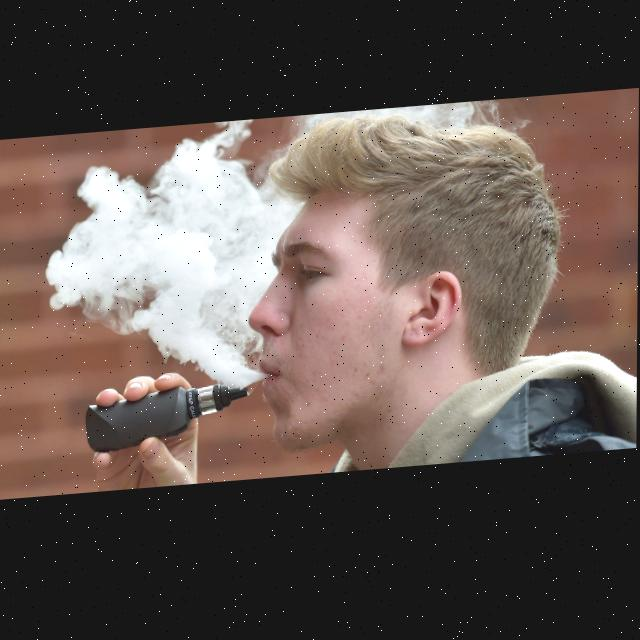vape: (86, 386, 249, 456)
